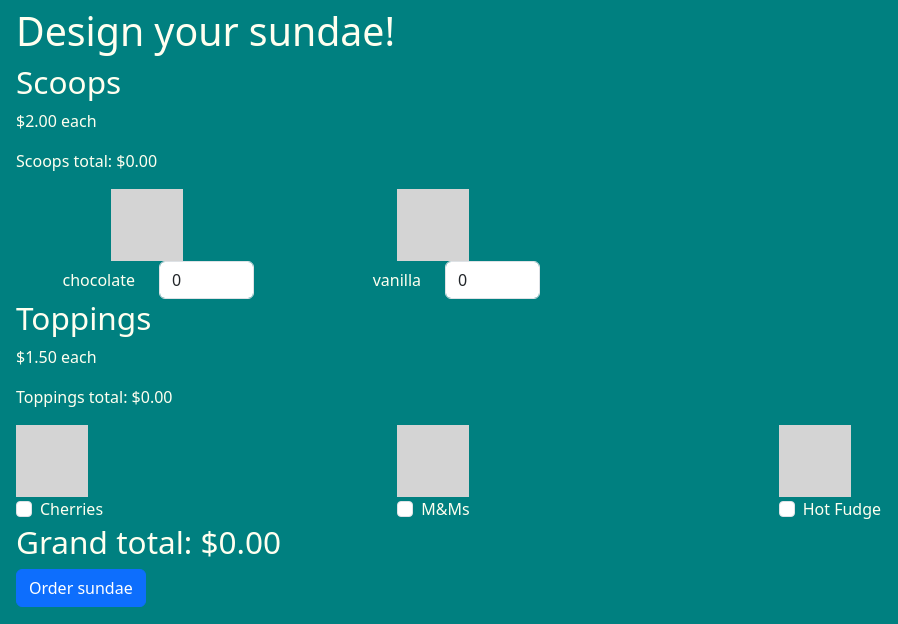
grand total › updates properly when toppings is selected first
This screenshot has width=898, height=624.
Click the checkbox labelled "M&Ms": (405, 509) [397,501,413,517]
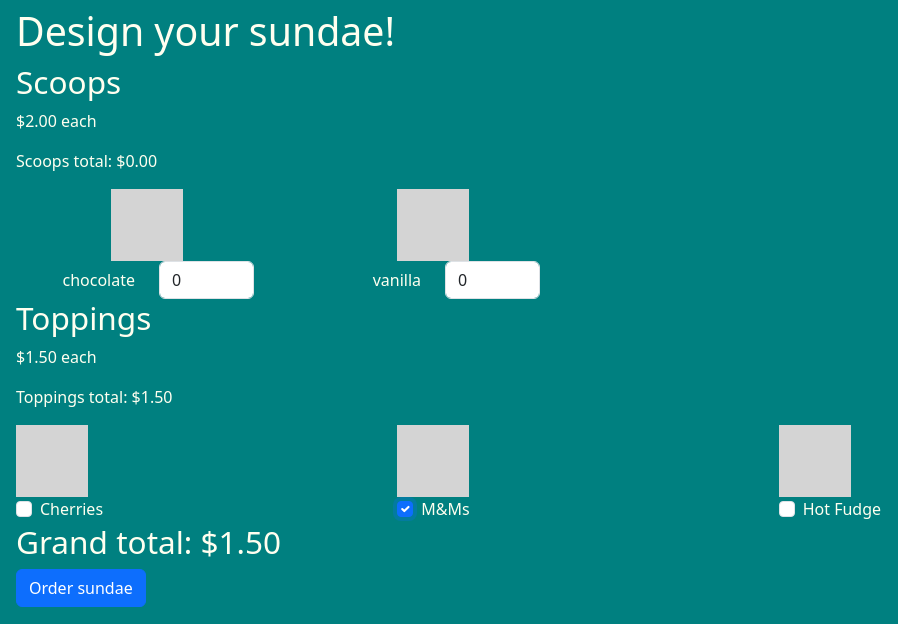
Expected: the heading "Grand total: $1.50" is shown, [16,520,281,563]
Replace the text in the number field labelled "chocolate" with "1": (207, 280) [159,261,254,299]
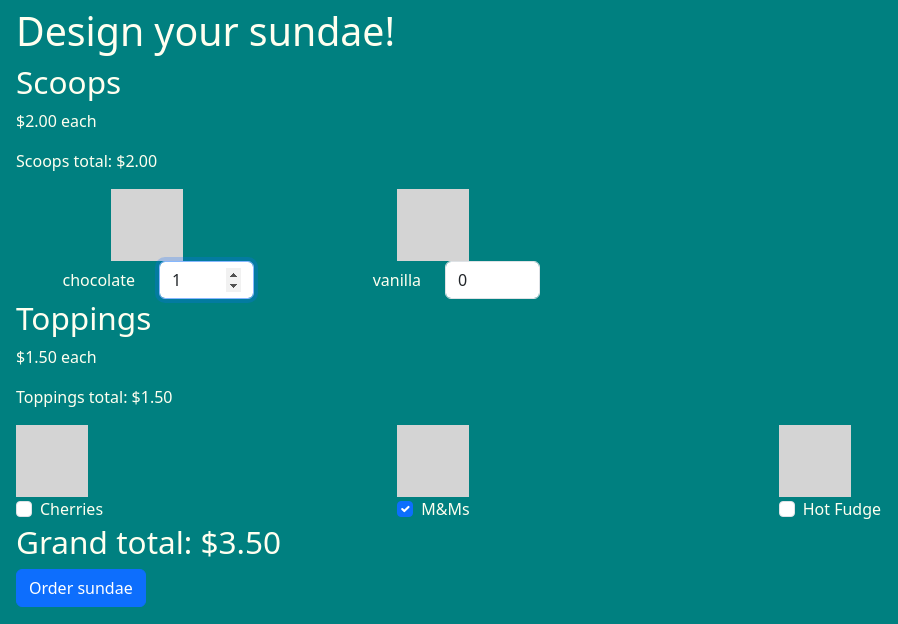
Expected: the heading "Grand total: $3.50" is shown, [16,520,281,563]
